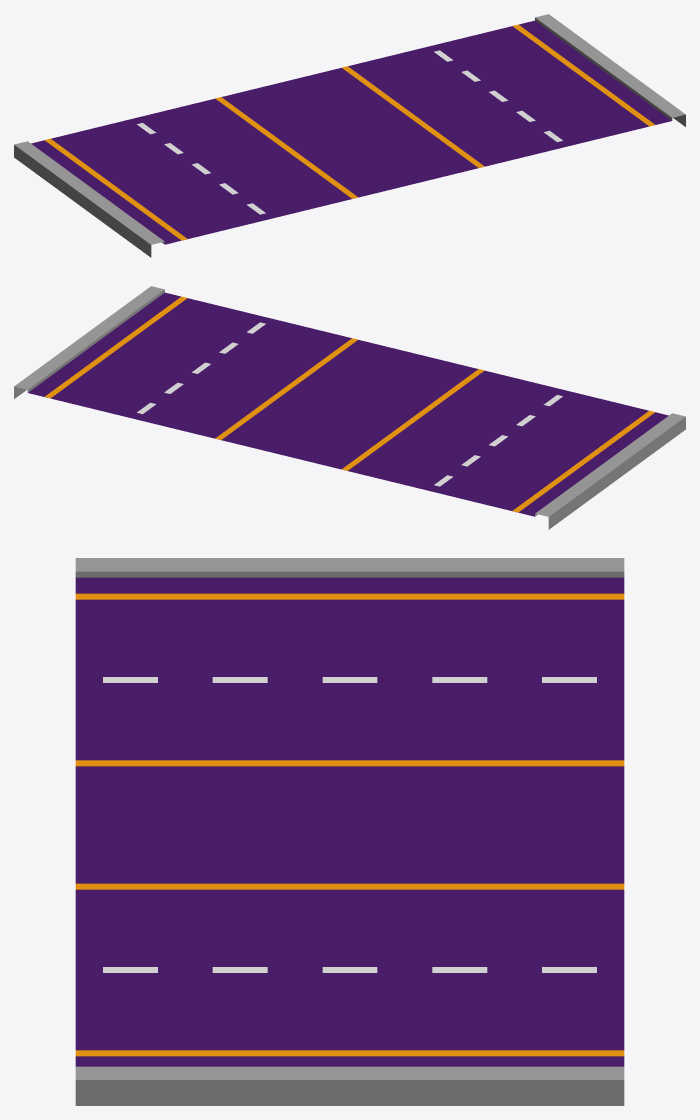
Rendered from Road_C_2L_1_1.glb.
3 views of the same model, one above another, from view 1: azimuth 30°, elevation 25°; view 2: azimuth 150°, elevation 25°; view 3: azimuth 270°, elevation 25° (orthographic). The views are drawn at different scales.
Parts seen in each view (by area): view 1: Road_C_2L_1_1; view 2: Road_C_2L_1_1; view 3: Road_C_2L_1_1.
Boxes of the visible parts, x1,y1,x2,y2 form: Road_C_2L_1_1: [14, 14, 685, 257]; Road_C_2L_1_1: [14, 286, 685, 529]; Road_C_2L_1_1: [75, 558, 624, 1105].
Size of the model in its own units: 18 by 0.4148 by 8.
1 material, 1 textured.
